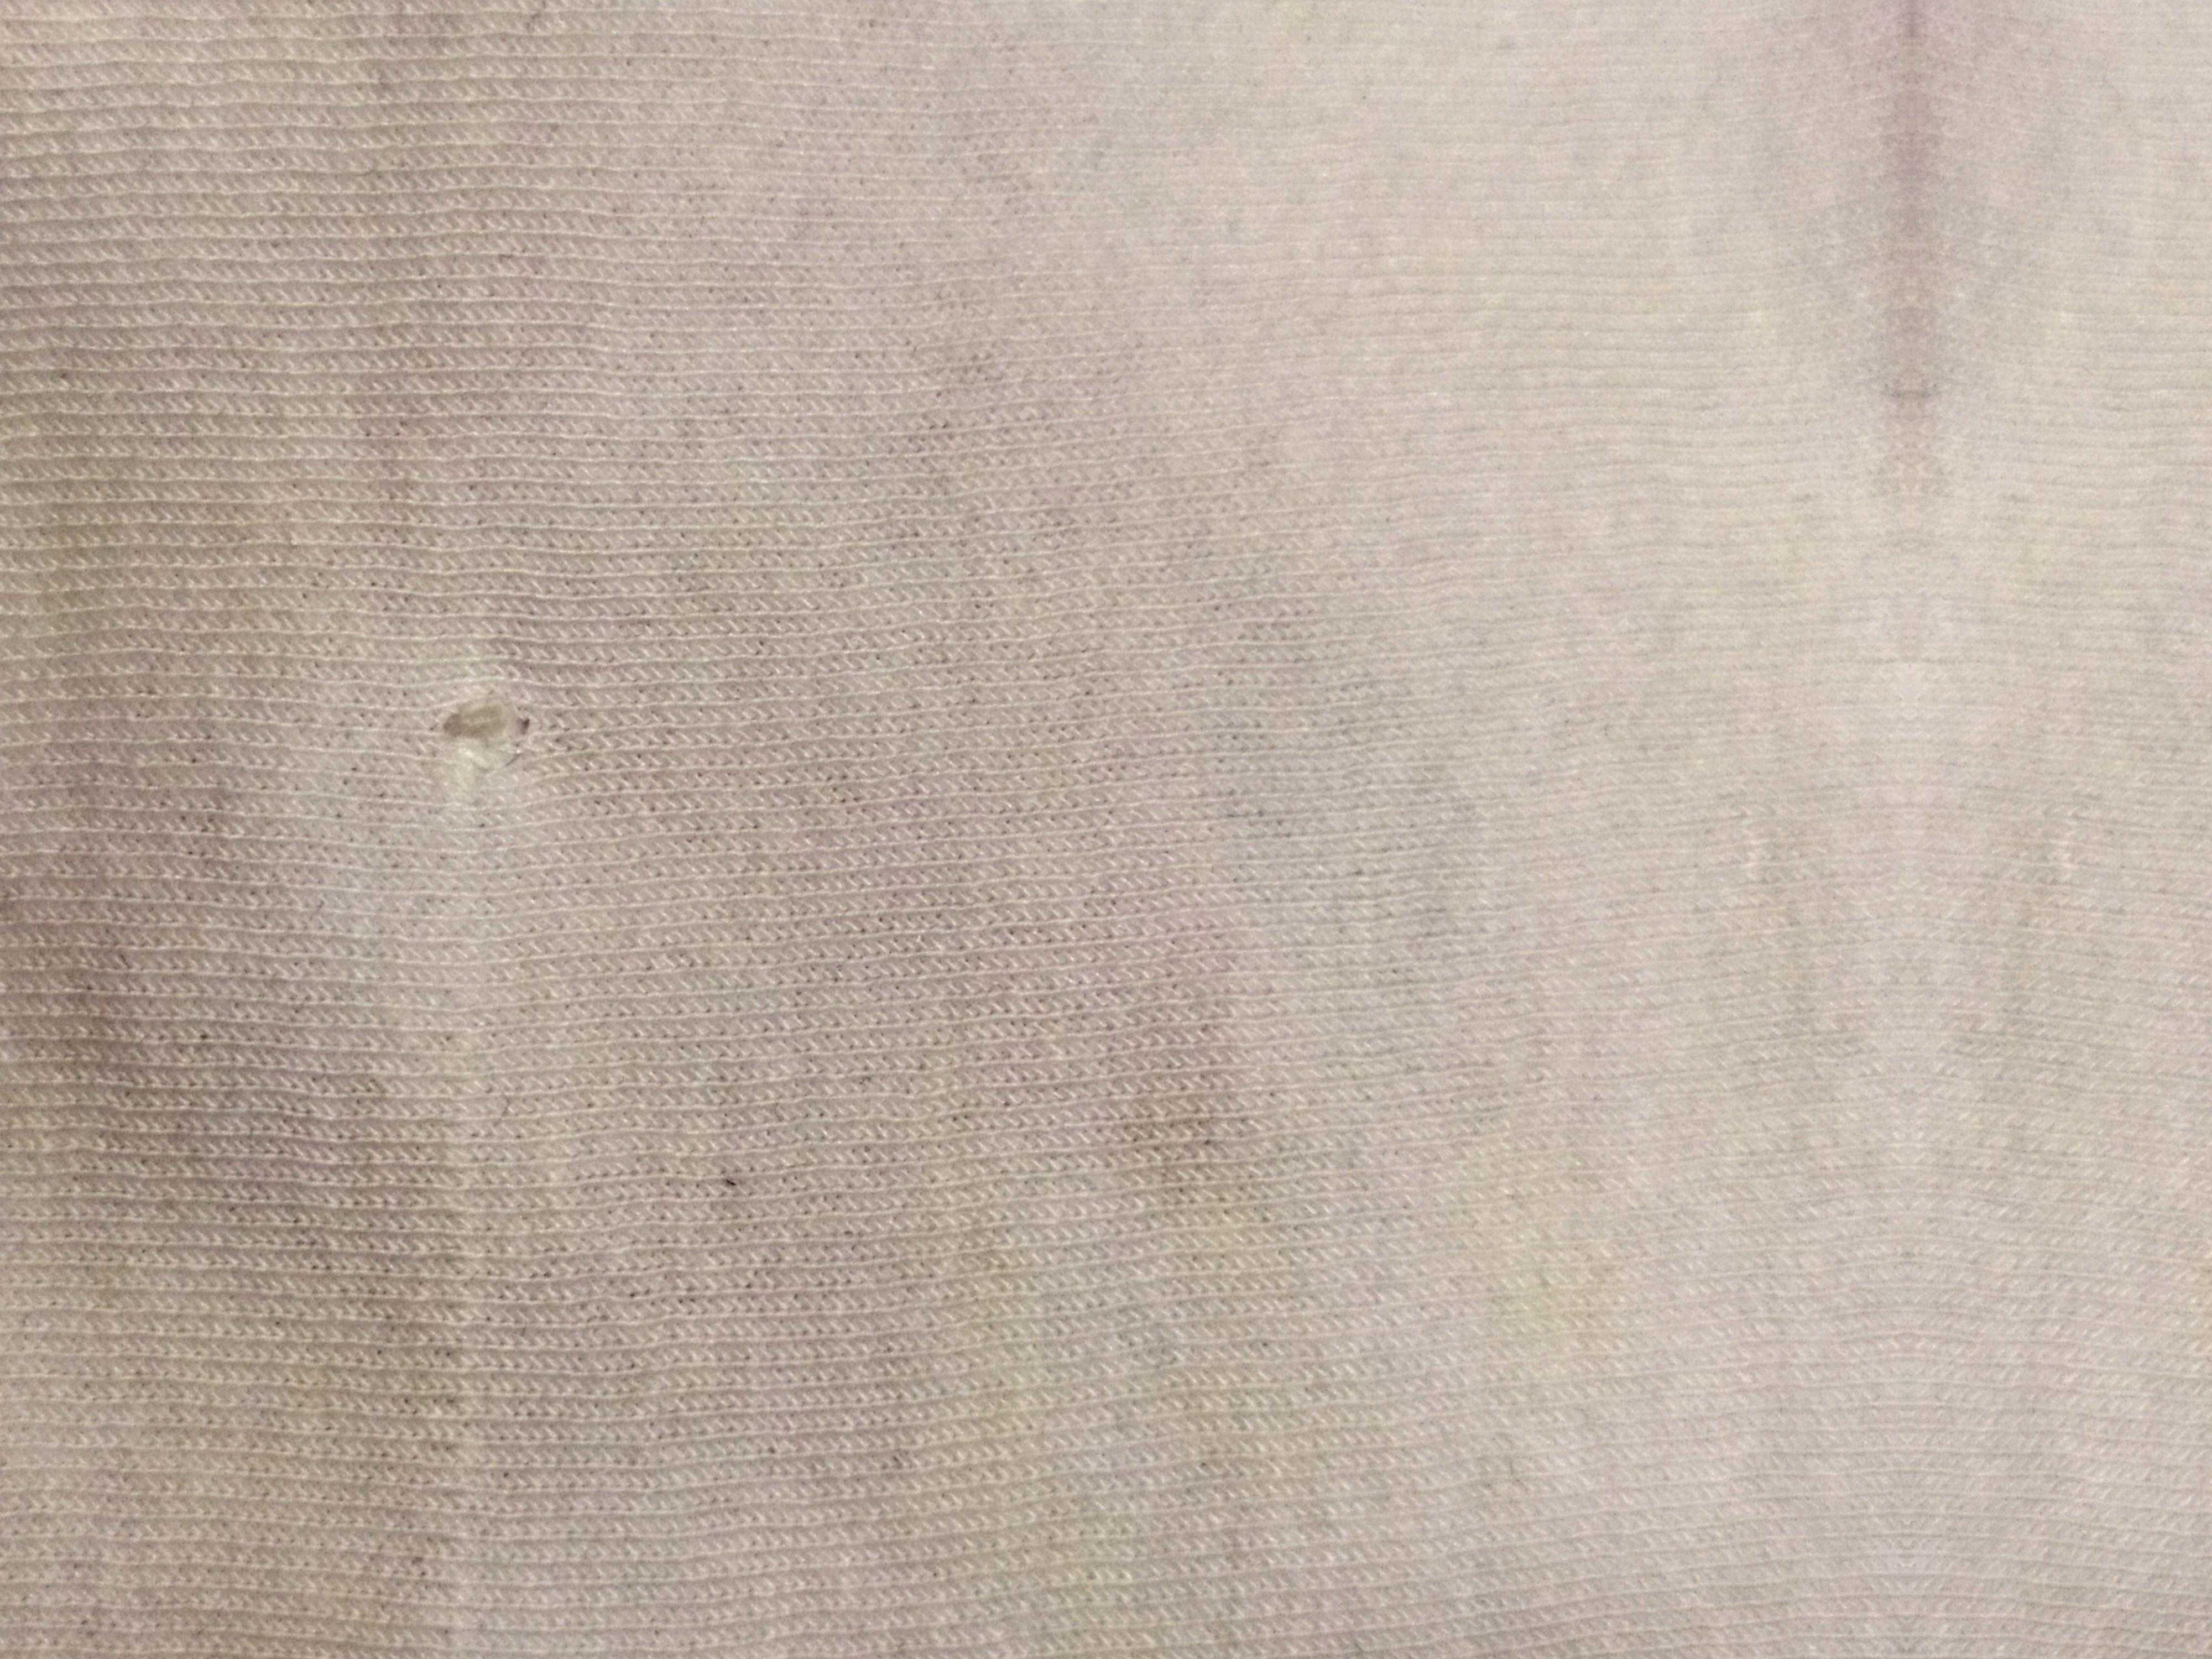knot: (411, 673, 582, 789)
